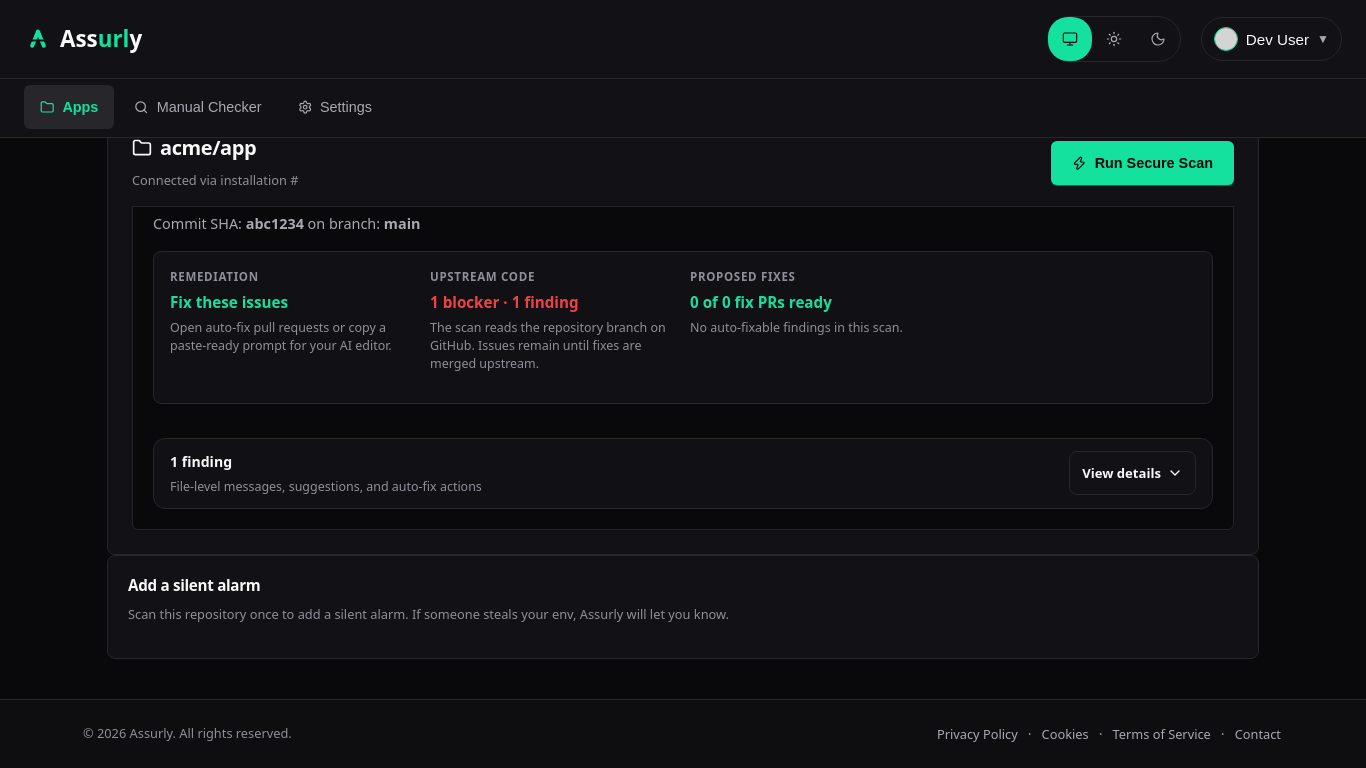
it: Auto-fix PR — handleCreateFixPr › does not display a "Fix it" button for warning-severity findings
The width and height of the screenshot is (1366, 768).
(page scrolled)
Click the heading with test id "scan-findings-details-toggle".
click(201, 462)  # box [154,439,1212,508]
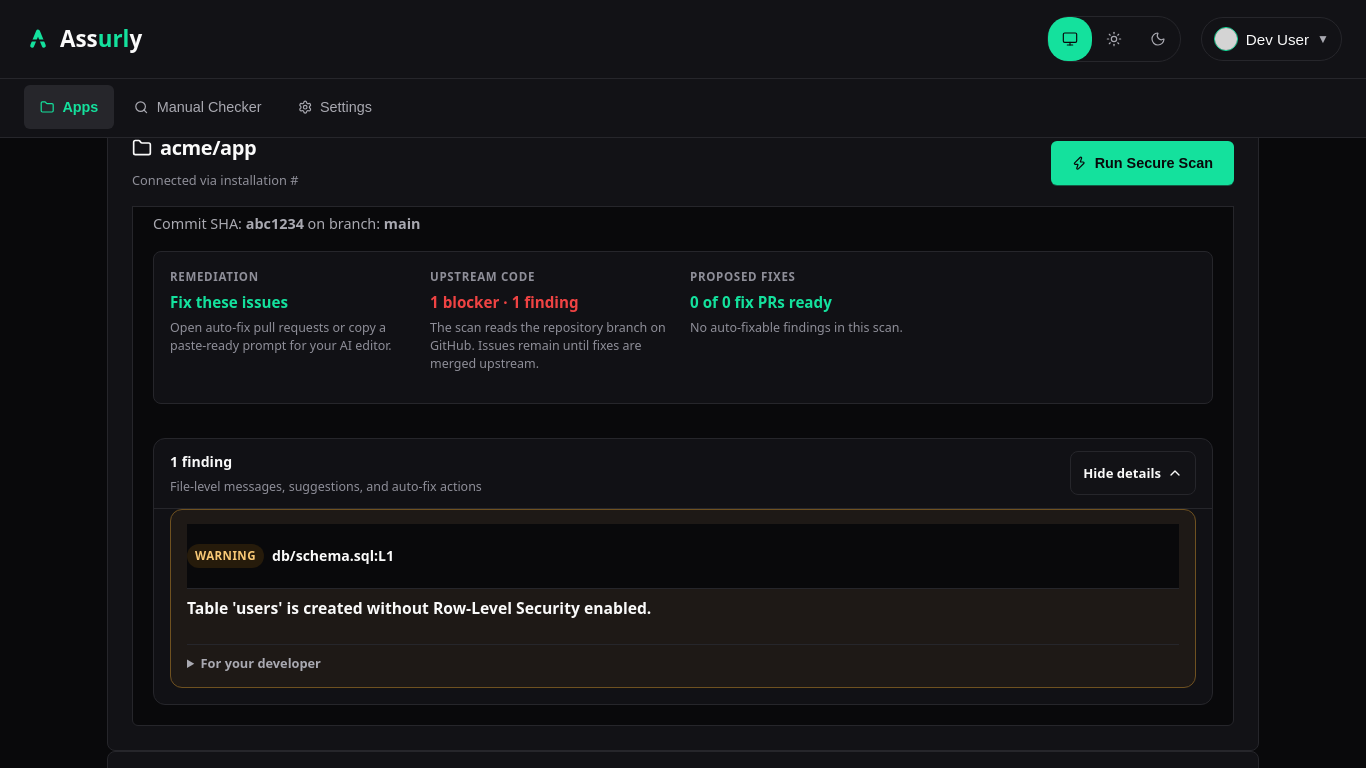
Expected: the text "Table 'users' is created without Row-Level Security enabled." is shown, [187,597,651,619]
